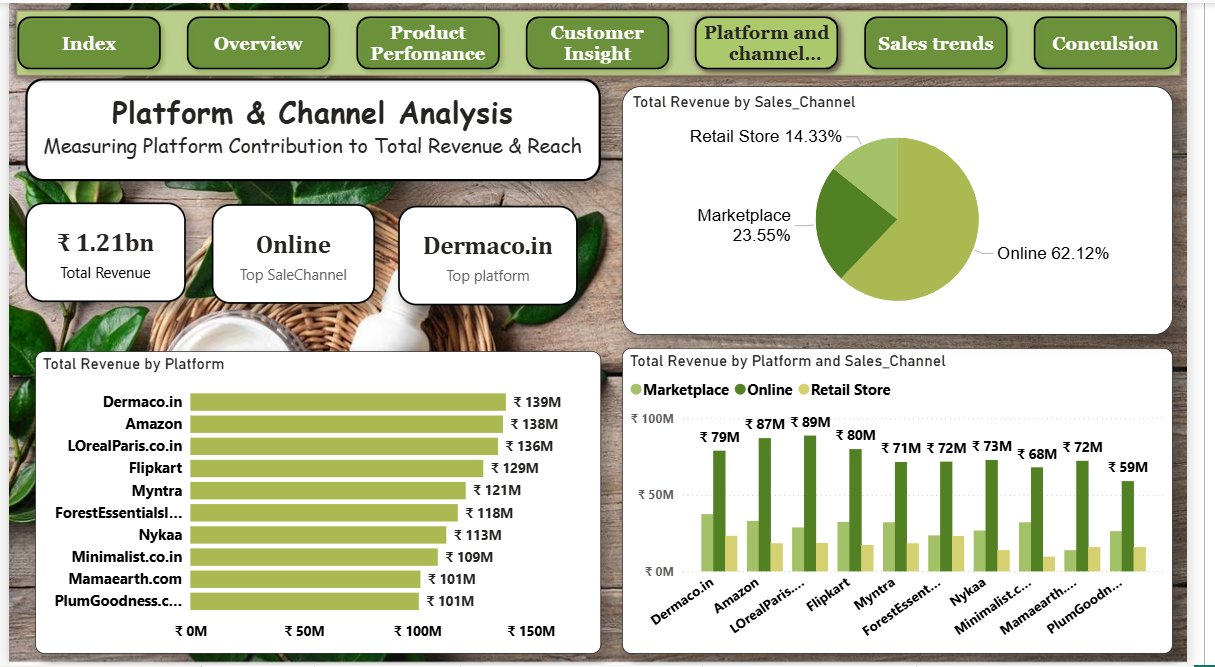

What the dashboard file says about the page in this screenshot:
{"tool":"powerbi","page":{"name":"Platform  and channel performs","canvas":[1280,720],"ordinal":4},"visuals":[{"type":"card","fields":{"Values":["Min(skincare.Platform)"]},"box":[422.7,220.2,195.3,108.3],"z":0},{"type":"card","fields":{"Values":["Sum(skincare.Revenue_INR)"]},"box":[17.8,216.7,174,108.3],"z":1000},{"type":"clusteredBarChart","fields":{"Category":["skincare.Platform"],"Y":["Sum(skincare.Revenue_INR)"]},"box":[28.4,378.3,614.4,328.5],"z":2000},{"type":"clusteredColumnChart","fields":{"Category":["skincare.Platform"],"Y":["Sum(skincare.Revenue_INR)"],"Series":["skincare.Sales_Channel"]},"box":[665.9,374.7,598.5,332.1],"z":3000},{"type":"pieChart","fields":{"Category":["skincare.Sales_Channel"],"Y":["skincare.Total Revenue"]},"box":[665.9,90.6,598.5,269.9],"z":4000},{"type":"card","fields":{"Values":["Min(skincare.Sales_Channel)"]},"box":[220.2,218.4,177.6,108.3],"z":5000},{"type":"textbox","box":[17.8,81.7,625.1,111.9],"z":6000},{"type":"shape","box":[0,0,1280.4,87],"z":7000},{"type":"pageNavigator","box":[0,5.3,1280.4,76.4],"z":8000}]}

Visuals, with their boxes in screenshot pixels (x1, y1, x2, y2), scaled from the page's 1280x720 canvas onto the 1215x667 screenshot:
card - Min(skincare.Platform): box=[401, 204, 587, 304]
card - Sum(skincare.Revenue_INR): box=[17, 201, 182, 301]
clusteredBarChart - skincare.Platform x Sum(skincare.Revenue_INR): box=[27, 350, 610, 655]
clusteredColumnChart - skincare.Platform x Sum(skincare.Revenue_INR): box=[632, 347, 1200, 655]
pieChart - skincare.Sales_Channel x skincare.Total Revenue: box=[632, 84, 1200, 334]
card - Min(skincare.Sales_Channel): box=[209, 202, 378, 303]
textbox: box=[17, 76, 610, 179]
shape: box=[0, 0, 1214, 81]
pageNavigator: box=[0, 5, 1214, 76]
